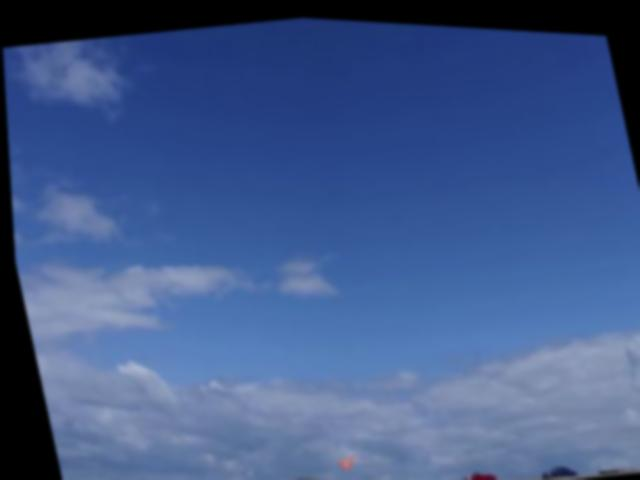flying wing: (331, 446, 353, 470)
